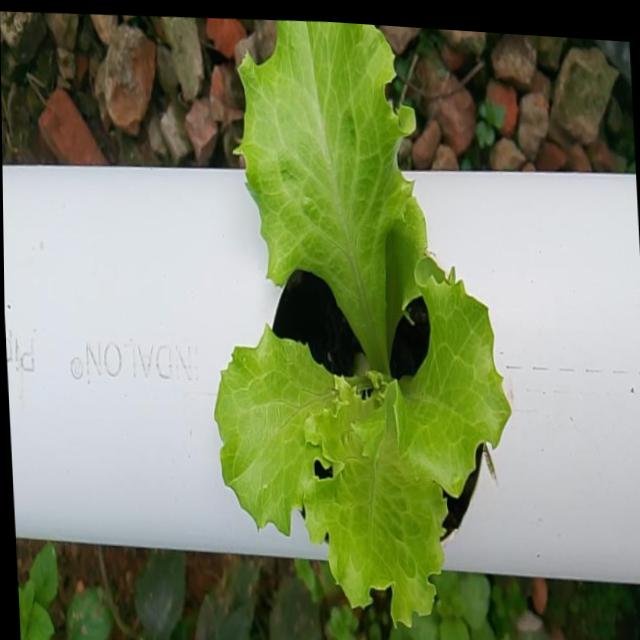Baby: (212, 20, 508, 627)
